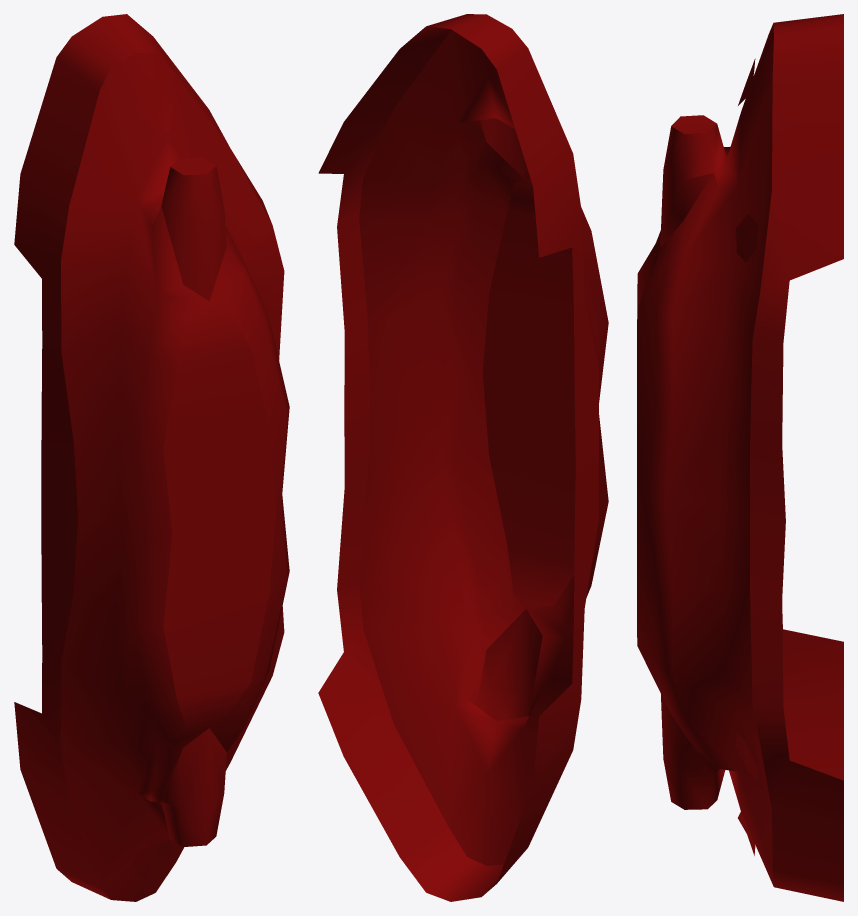
The model's file is Caliper_Perf_F.obj.
3 renders of one model, left to right at view 1: azimuth 30°, elevation 25°; view 2: azimuth 150°, elevation 25°; view 3: azimuth 270°, elevation 25°, orthographic.
Parts seen in each view (by area): view 1: Caliper_Perf_F; view 2: Caliper_Perf_F; view 3: Caliper_Perf_F.
Boxes of the visible parts, x1=… form: Caliper_Perf_F: x1=14, y1=14, x2=289, y2=901; Caliper_Perf_F: x1=318, y1=14, x2=608, y2=901; Caliper_Perf_F: x1=637, y1=14, x2=843, y2=901.
Size of the model in its own units: 0.0778 by 0.2738 by 0.0586.
